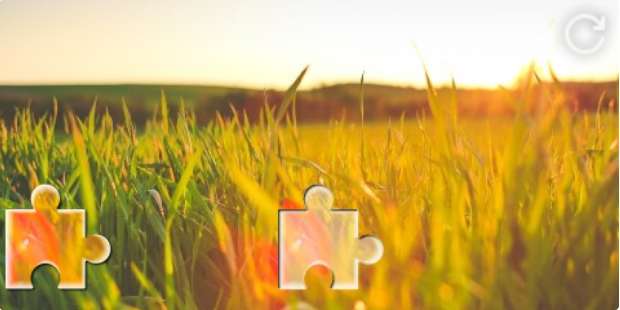target: (278, 185, 382, 290)
